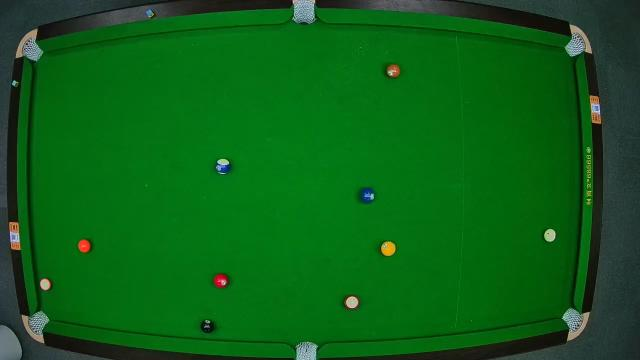bag1: (22, 39, 42, 61)
bag2: (293, 1, 317, 24)
bag3: (565, 34, 587, 58)
bag4: (28, 312, 48, 336)
bag5: (294, 342, 318, 360)
bag6: (560, 307, 584, 333)
ball0: (542, 229, 558, 244)
ball1: (381, 241, 397, 257)
ball10: (214, 158, 232, 174)
ball11: (343, 294, 361, 310)
ball12: (38, 278, 54, 292)
ball2: (359, 187, 375, 204)
ball3: (212, 274, 230, 290)
ball5: (77, 240, 91, 254)
ball7: (386, 64, 402, 80)
ball8: (200, 318, 214, 334)
